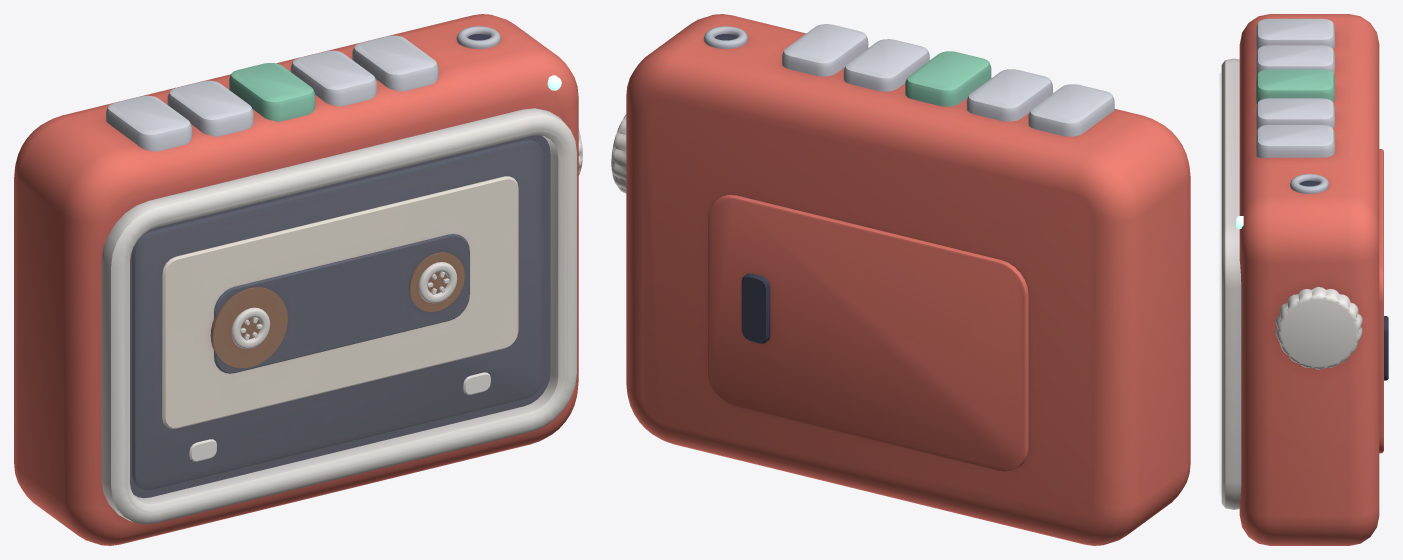
File: cassette-player.glb
The picture shows the model from 3 angles, left to right: view 1: azimuth 30°, elevation 25°; view 2: azimuth 150°, elevation 25°; view 3: azimuth 270°, elevation 25°; orthographic projection. The views are drawn at different scales.
Visible parts, largest first — view 1: cassette-player_body, cassette-player_window_glass; view 2: cassette-player_body; view 3: cassette-player_body, cassette-player_window_glass.
Boxes of the visible parts, x1,y1,x2,y2 form: cassette-player_body: (14,14,582,545); cassette-player_window_glass: (128,133,566,512); cassette-player_body: (611,14,1190,545); cassette-player_body: (1221,14,1388,545); cassette-player_window_glass: (1219,73,1221,495).
Bounding box in the file's own units: 0.1152 × 0.0856 × 0.0364.
3 materials, 1 textured.
